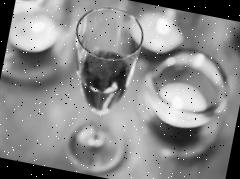glass: (49, 2, 154, 179)
